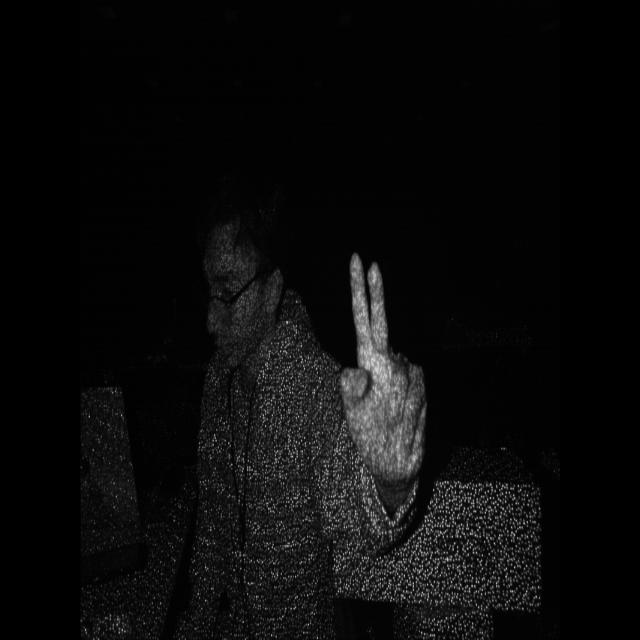K: (332, 240, 432, 487)
